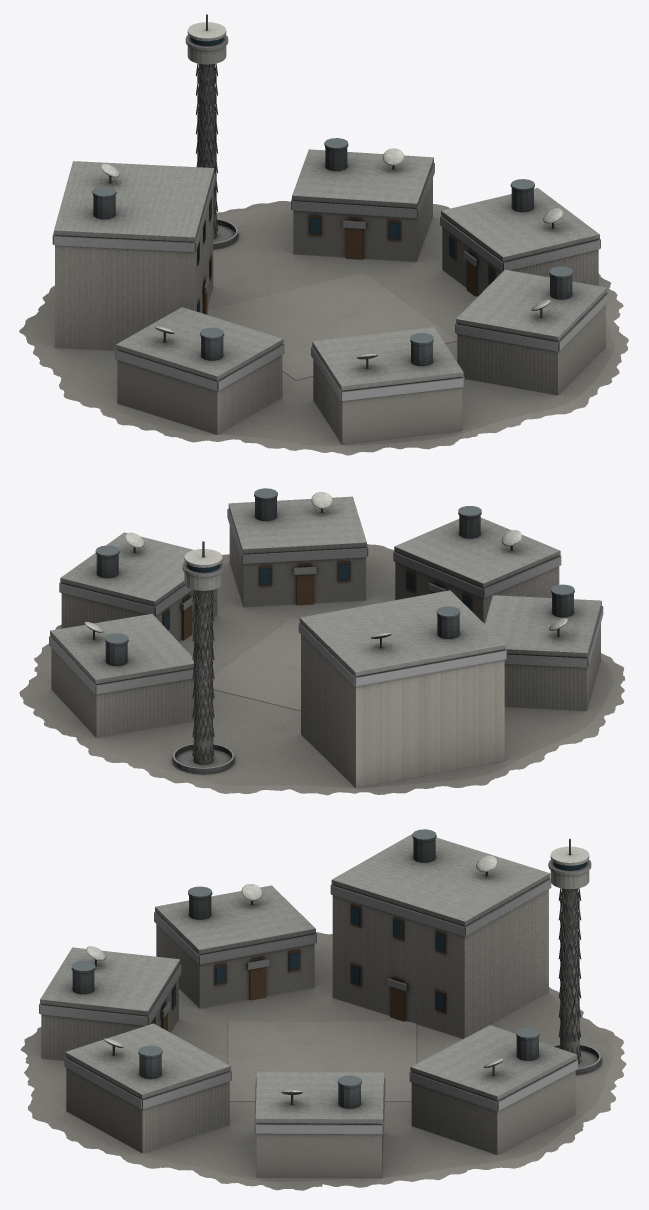
File: modern-town-small-a-nile.glb
The picture shows the model from 3 angles, top to bottom: view 1: azimuth 30°, elevation 25°; view 2: azimuth 150°, elevation 25°; view 3: azimuth 270°, elevation 25°; orthographic projection.
Visible parts, largest first — view 1: LOD0; view 2: LOD0; view 3: LOD0.
Part boxes in pixels (x1,y1,x2,y2): LOD0: (19,14,628,455); LOD0: (19,488,625,795); LOD0: (20,829,626,1190).
Size of what is drawn, in the model's own units: 3.98 by 1.6 by 3.96.
Materials: 3 (3 with a texture image).
